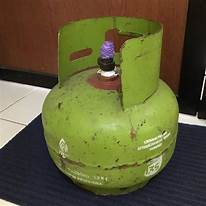gas_ijo: (40, 16, 179, 197)
